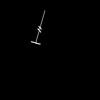treble_crochet: (34, 27, 40, 43)
